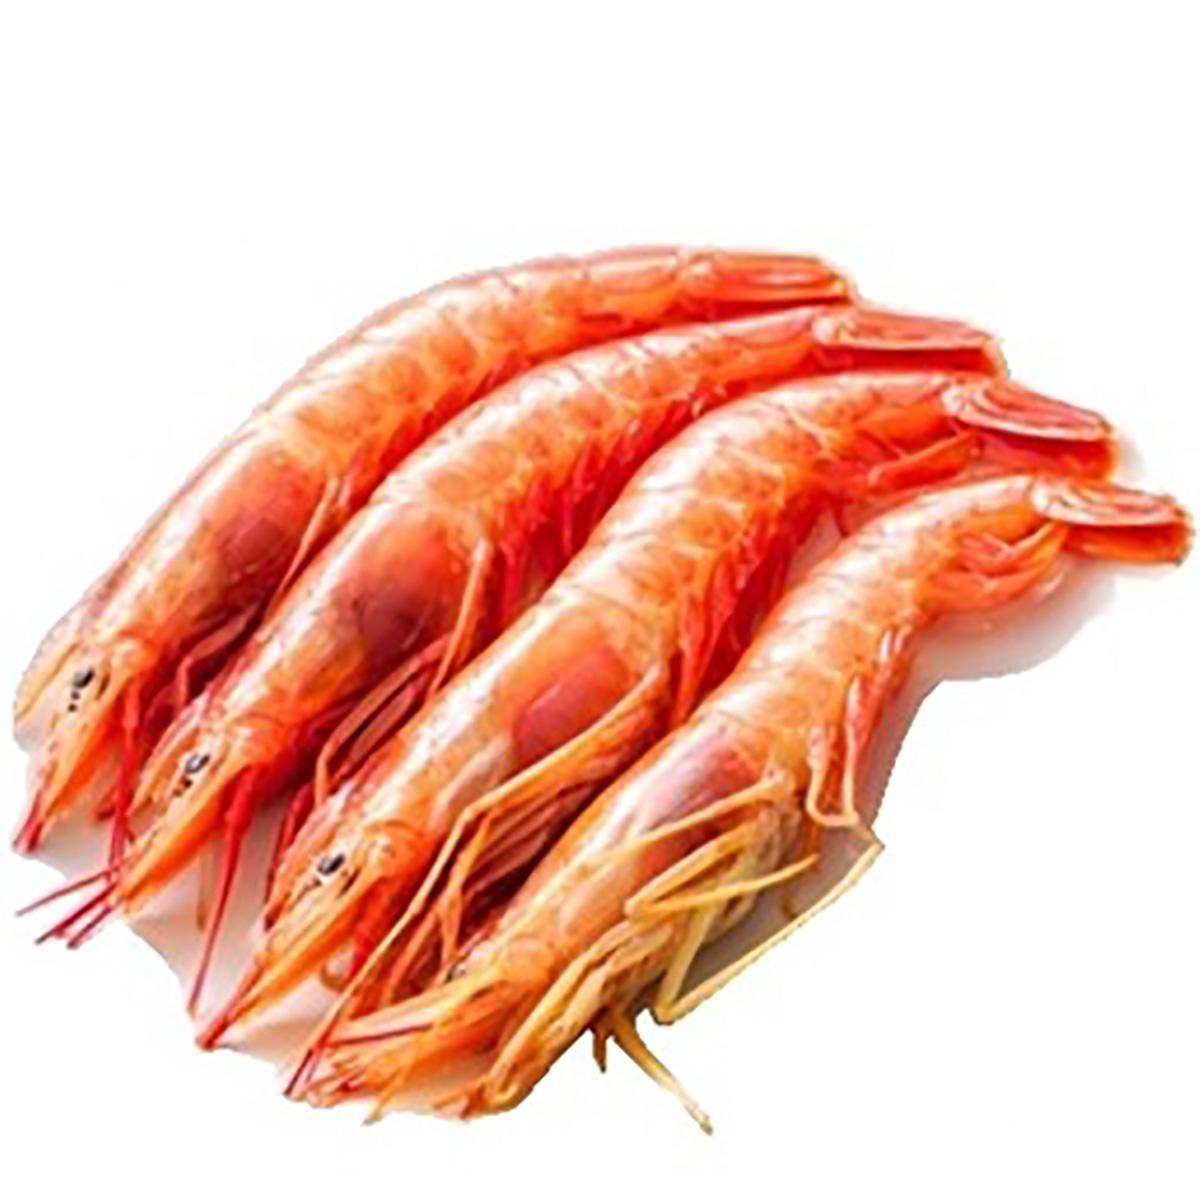Red Prawn: (492, 501, 1073, 1127), (253, 425, 735, 1005), (36, 309, 245, 755)
